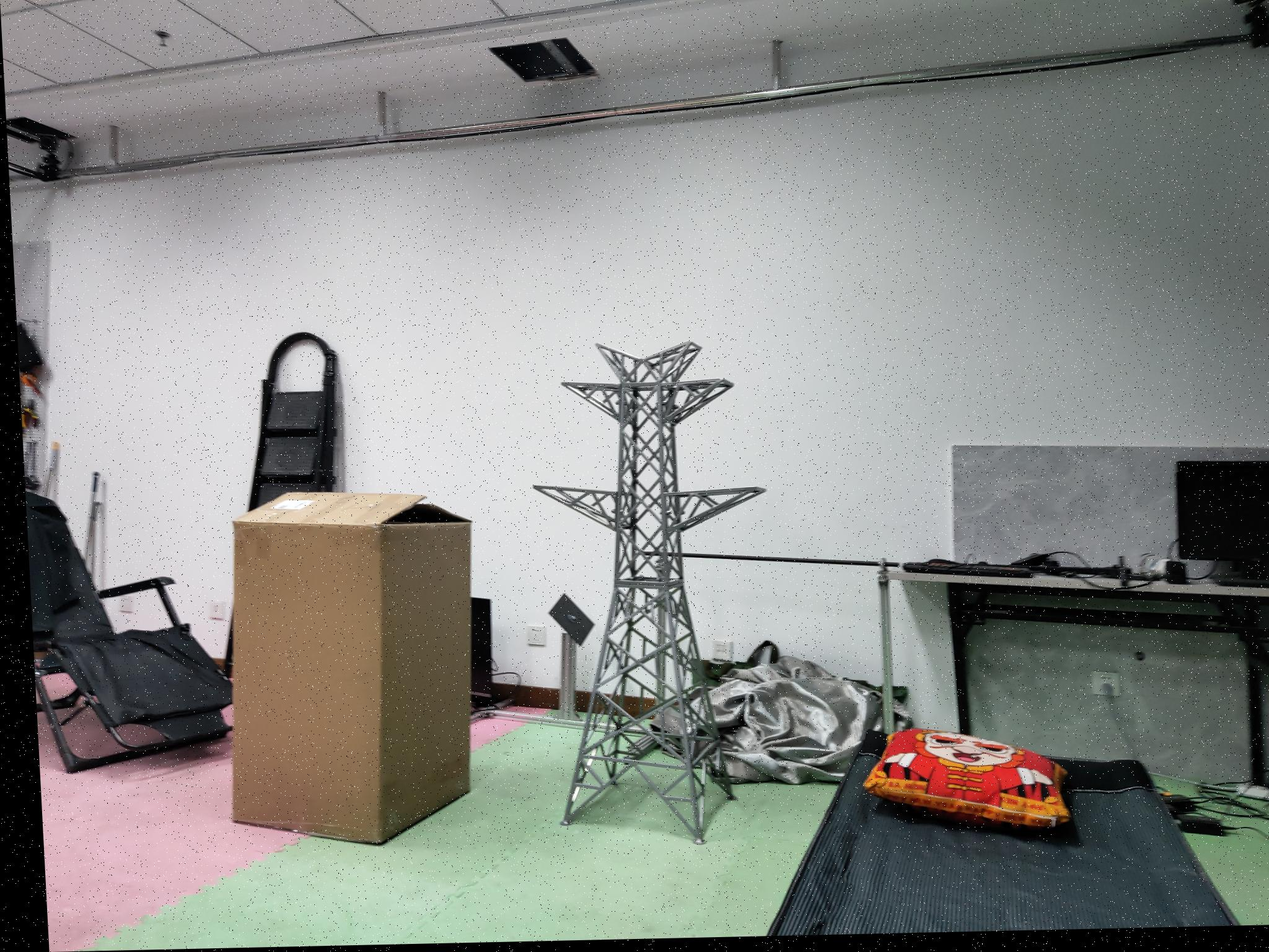tower: (524, 337, 781, 850)
